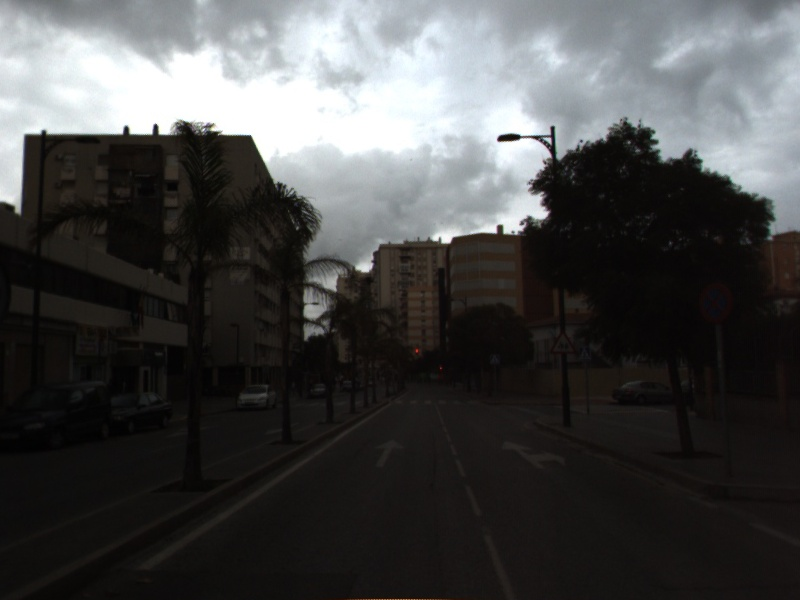STRAIGHT: (373, 437, 407, 470)
STRAIGHT_RIGHT: (499, 438, 568, 471)
